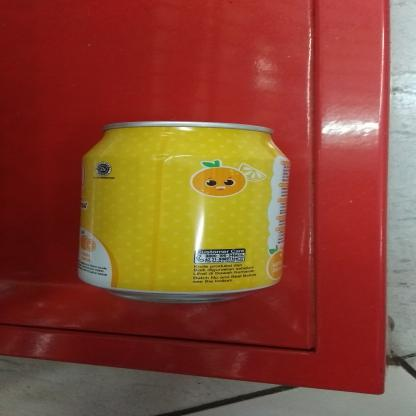mouse: (75, 119, 295, 302)
